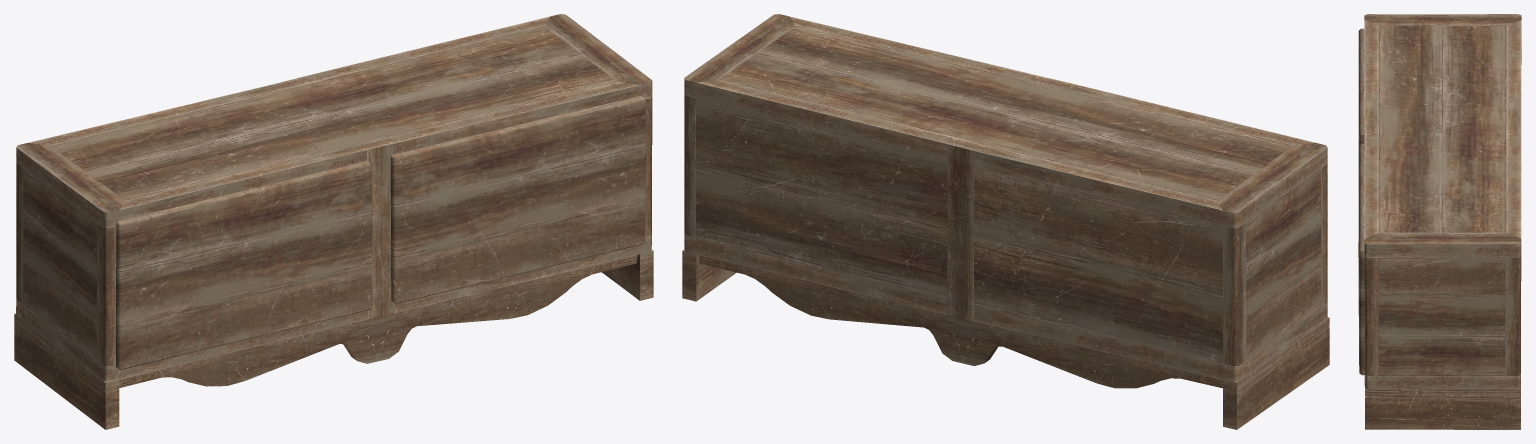
3 renders of one model, left to right at view 1: azimuth 30°, elevation 25°; view 2: azimuth 150°, elevation 25°; view 3: azimuth 270°, elevation 25°, orthographic. The views are drawn at different scales.
Visible parts, largest first — view 1: SM_DR_smallshelf_03_LOD0; view 2: SM_DR_smallshelf_03_LOD0; view 3: SM_DR_smallshelf_03_LOD0.
Boxes of the visible parts, box(x1,y1,x2,y2) form: SM_DR_smallshelf_03_LOD0: box(14, 14, 653, 429); SM_DR_smallshelf_03_LOD0: box(682, 14, 1329, 429); SM_DR_smallshelf_03_LOD0: box(1358, 14, 1521, 429).
Bounding box in the file's own units: 2.43 × 0.9221 × 0.7291.
